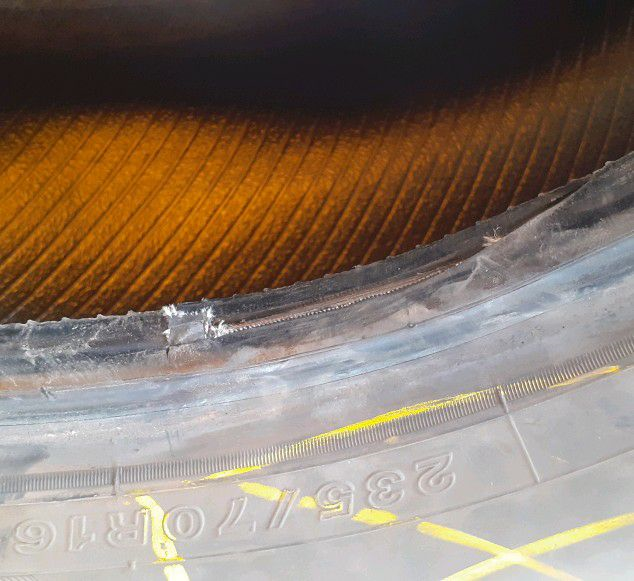bead_damage: (15, 158, 621, 379)
